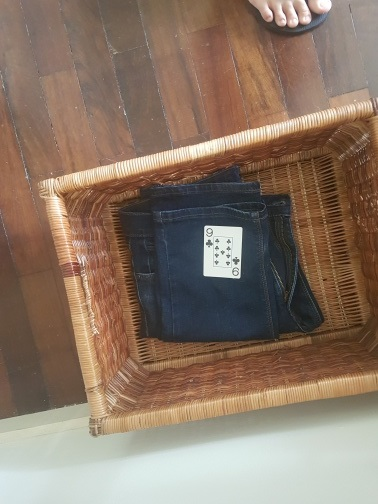nine: (203, 226, 242, 279)
